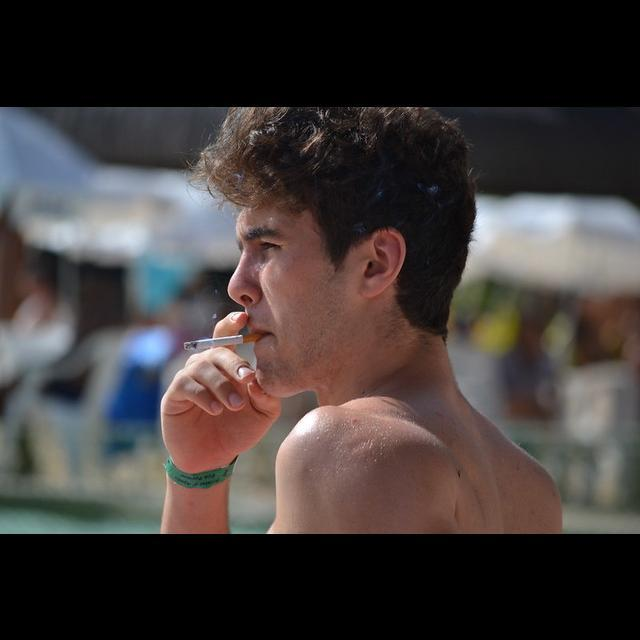rokok: (180, 330, 256, 350)
